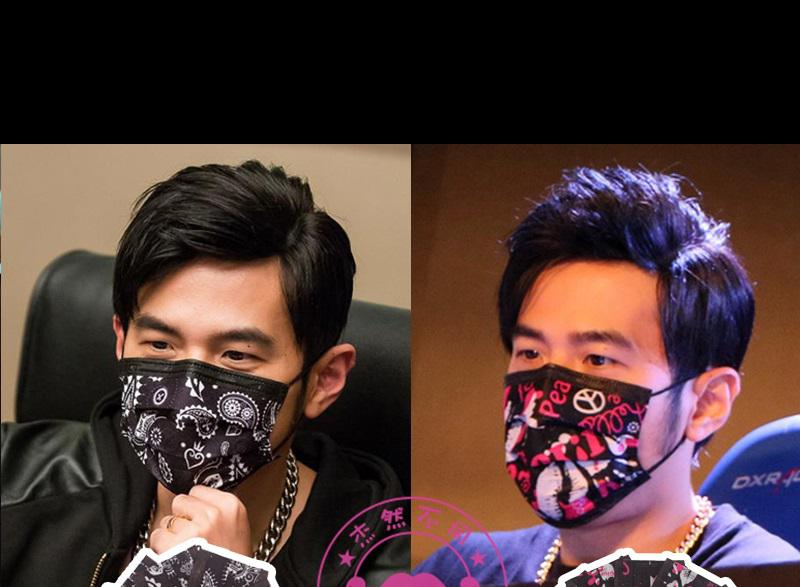OK: (500, 320, 701, 527), (112, 288, 306, 482)
